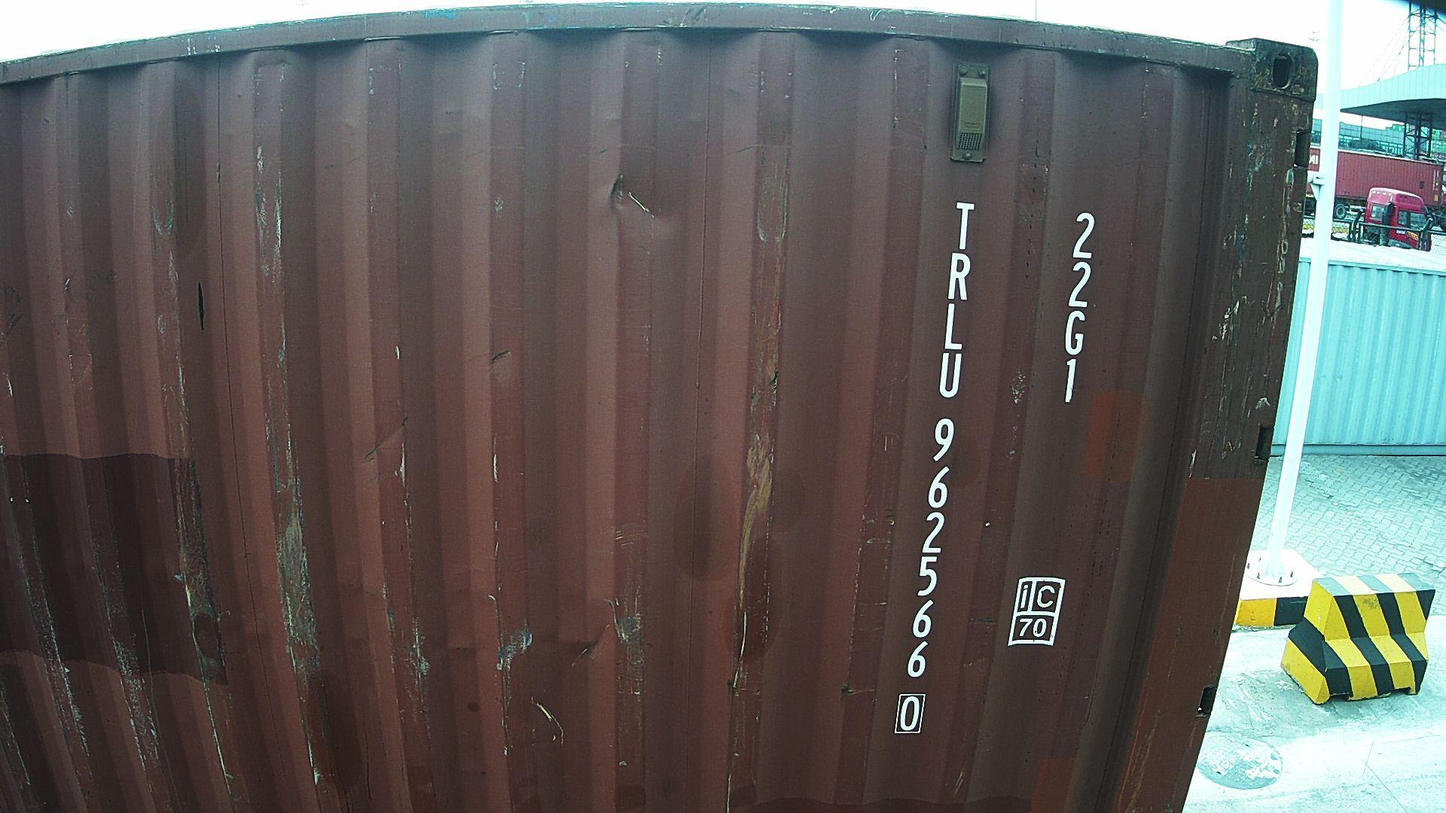container-numbers: (892, 198, 983, 739), (1052, 209, 1100, 408)
